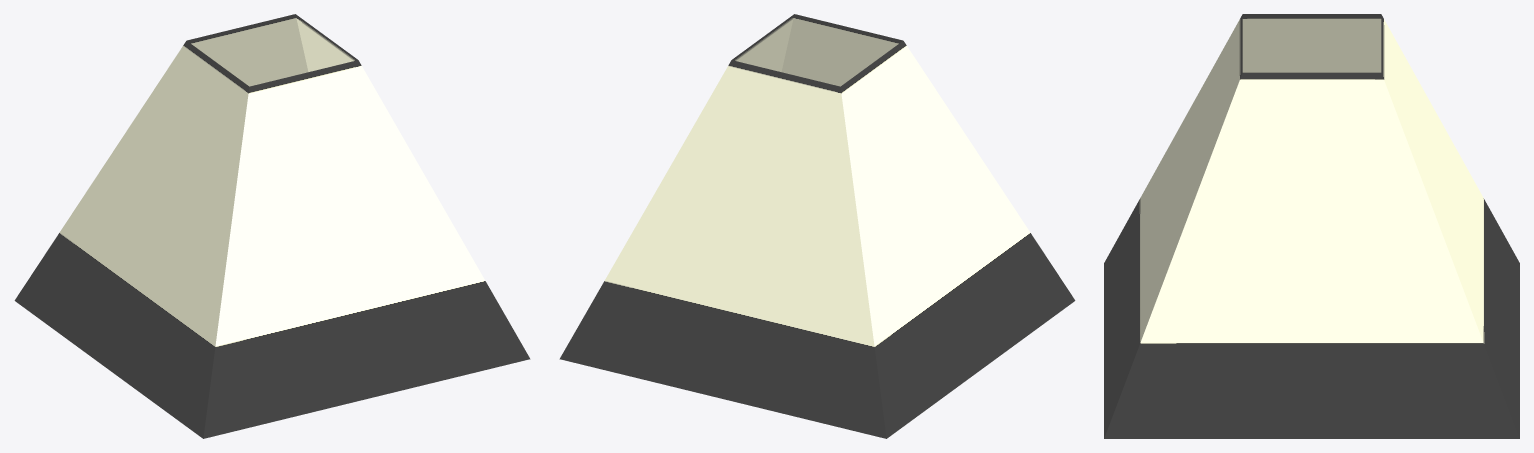
Rendered from ceiling_lamp_1_fake_light_1.glb.
The picture shows the model from 3 angles, left to right: view 1: azimuth 30°, elevation 25°; view 2: azimuth 150°, elevation 25°; view 3: azimuth 270°, elevation 25°; orthographic projection. The views are drawn at different scales.
Parts seen in each view (by area): view 1: ceiling_lamp_1_fake_light_1; view 2: ceiling_lamp_1_fake_light_1; view 3: ceiling_lamp_1_fake_light_1.
Boxes of the visible parts, x1,y1,x2,y2 form: ceiling_lamp_1_fake_light_1: [14, 14, 530, 438]; ceiling_lamp_1_fake_light_1: [559, 14, 1075, 438]; ceiling_lamp_1_fake_light_1: [1104, 14, 1519, 438].
Bounding box in the file's own units: 3 × 2.45 × 3.
Materials: 1 (1 with a texture image).
